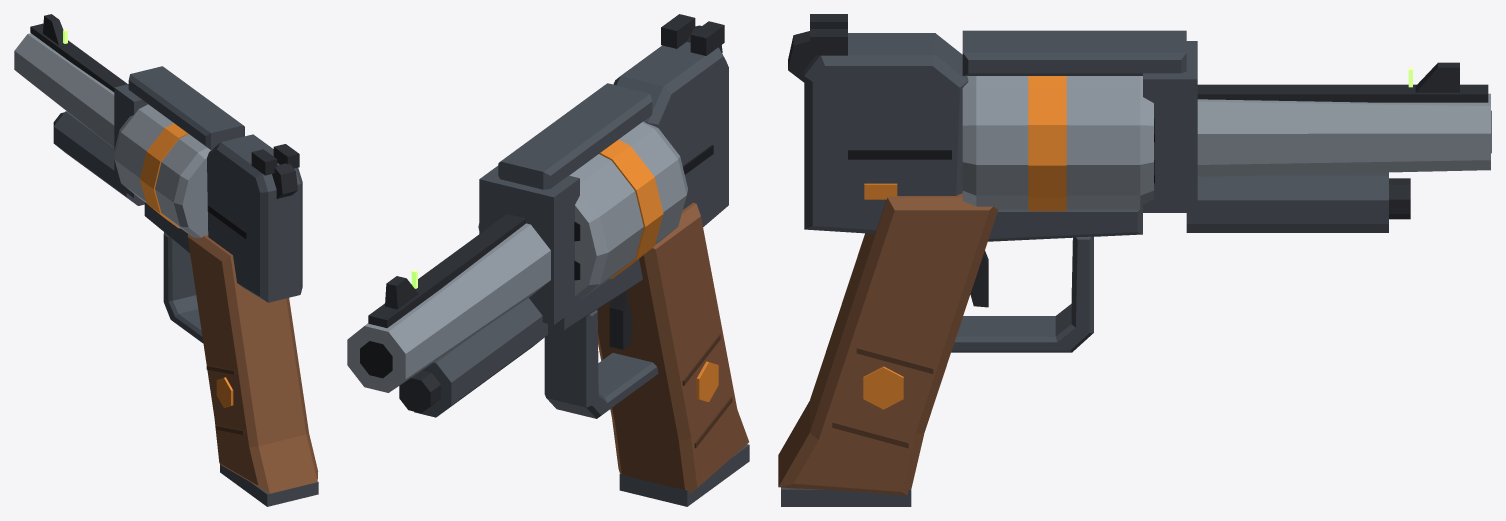
The model's file is revolver.glb.
The picture shows the model from 3 angles, left to right: view 1: azimuth 30°, elevation 25°; view 2: azimuth 150°, elevation 25°; view 3: azimuth 270°, elevation 25°; orthographic projection. The views are drawn at different scales.
Parts seen in each view (by area): view 1: Body, Cylinder, Hammer; view 2: Body, Cylinder, Trigger; view 3: Body, Cylinder, Hammer.
Boxes of the visible parts, x1,y1,x2,y2 form: Body: [14, 14, 318, 506]; Cylinder: [113, 104, 211, 237]; Hammer: [272, 163, 297, 198]; Body: [347, 14, 749, 506]; Cylinder: [478, 121, 687, 299]; Trigger: [609, 291, 632, 349]; Body: [778, 14, 1491, 506]; Cylinder: [962, 76, 1154, 211]; Hammer: [788, 31, 815, 82].
Size of the model in its own units: 0.0584 by 0.1875 by 0.2611.
